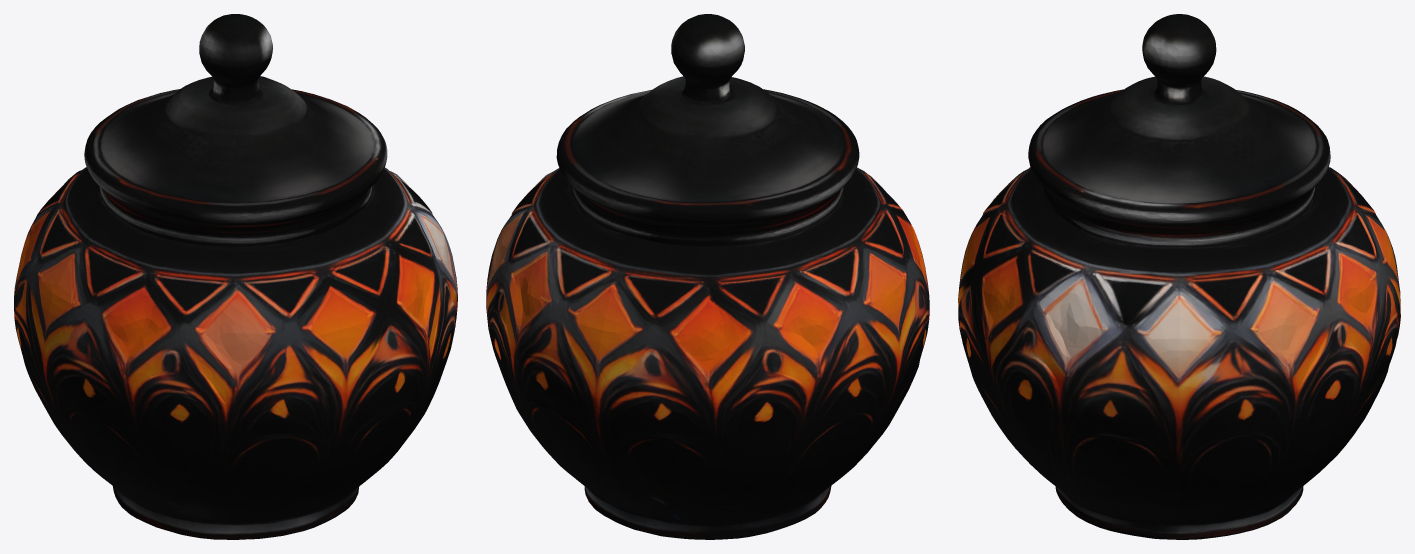
File: ceramic-honey-pot-art-deco.jpeg.glb
3 renders of one model, left to right at view 1: azimuth 30°, elevation 25°; view 2: azimuth 150°, elevation 25°; view 3: azimuth 270°, elevation 25°, orthographic.
Visible parts, largest first — view 1: world; view 2: world; view 3: world.
Part boxes in pixels (box(x1,y1,x2,y2)): world: box(14, 14, 457, 539); world: box(486, 14, 929, 539); world: box(958, 14, 1400, 539).
Size of the model in its own units: 0.854 by 1 by 0.8537.
1 material, 1 textured.
